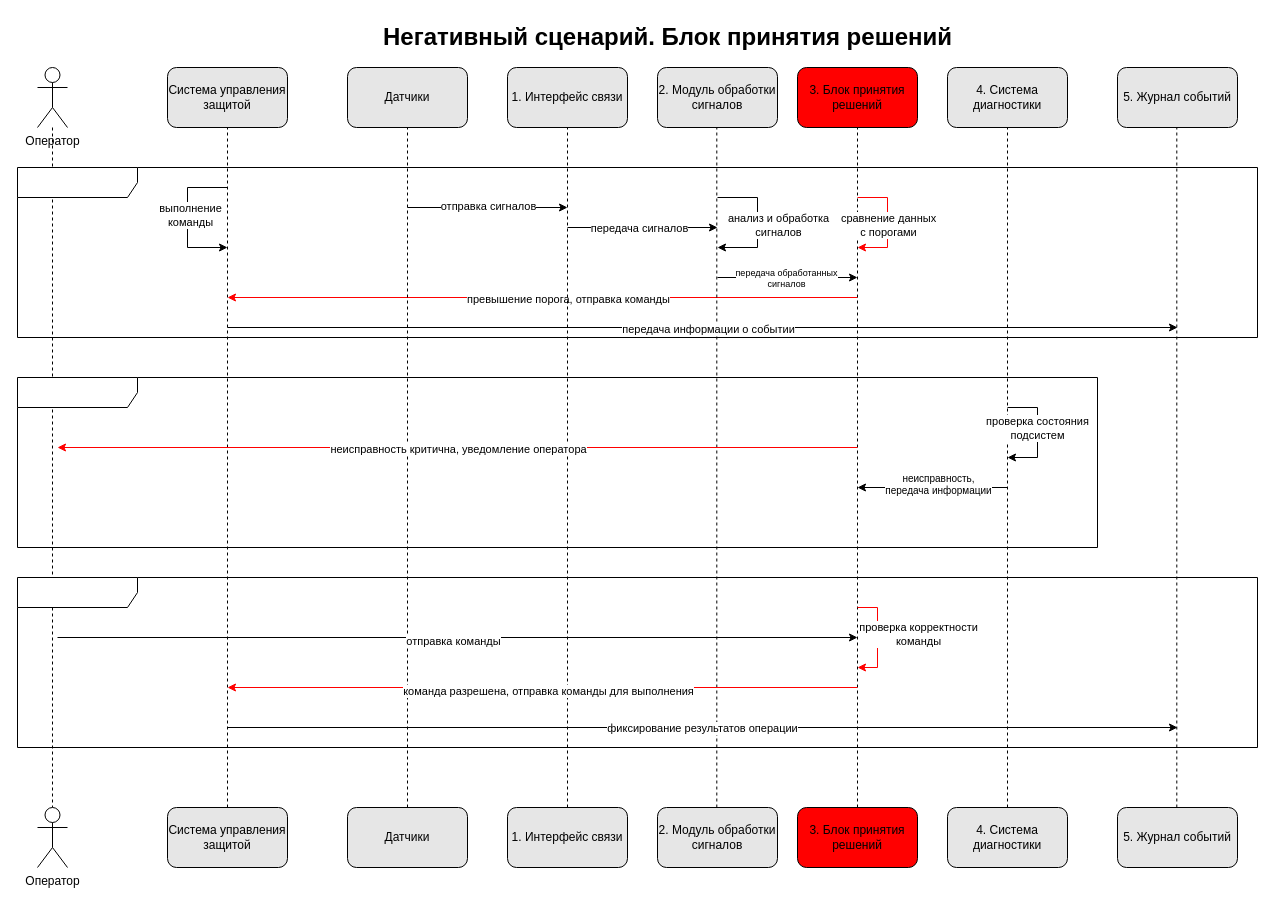
The diagram is 1275 pixels wide and 905 high, and some of its shapes have lost their labels. The centre of each missing label's shape, as x and y in pixels:
Основной рабочий процесс: the point at 637,252
Ручное управление: the point at 637,662
Самодиагностика и статус: the point at 557,462
